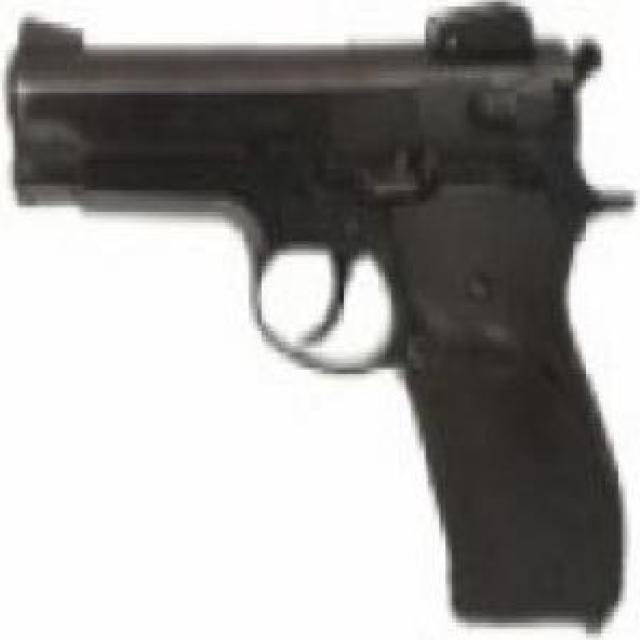pistol: (11, 6, 614, 622)
